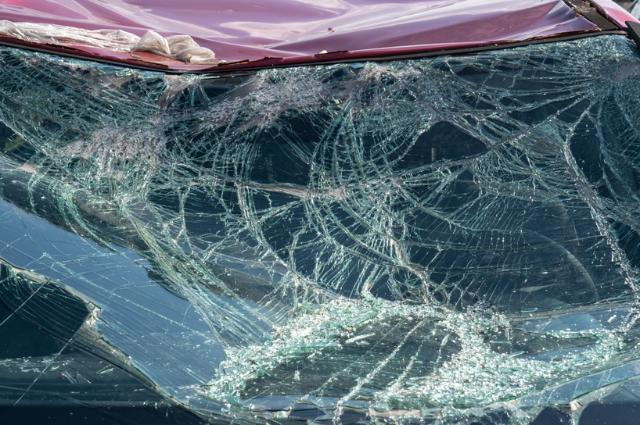Windshield: (0, 28, 640, 425)
